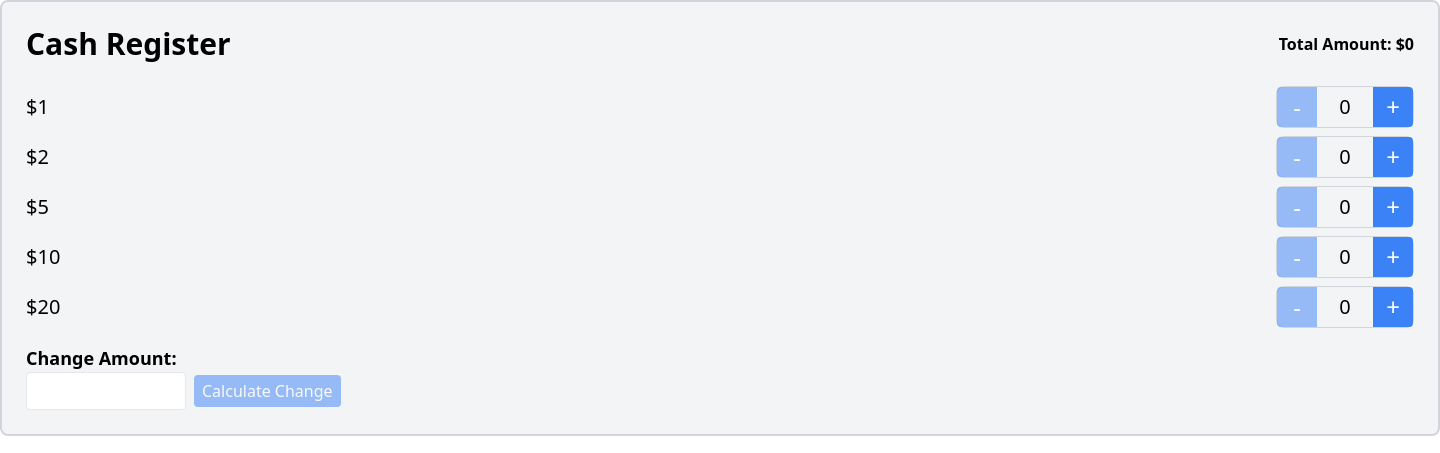
Test: [Component]: CashRegister › updates the total amount when removing money
The image size is (1440, 453).
# Add some money
Click the button with test id "add-money-20" at (1393, 307), box [1373,287,1413,327]
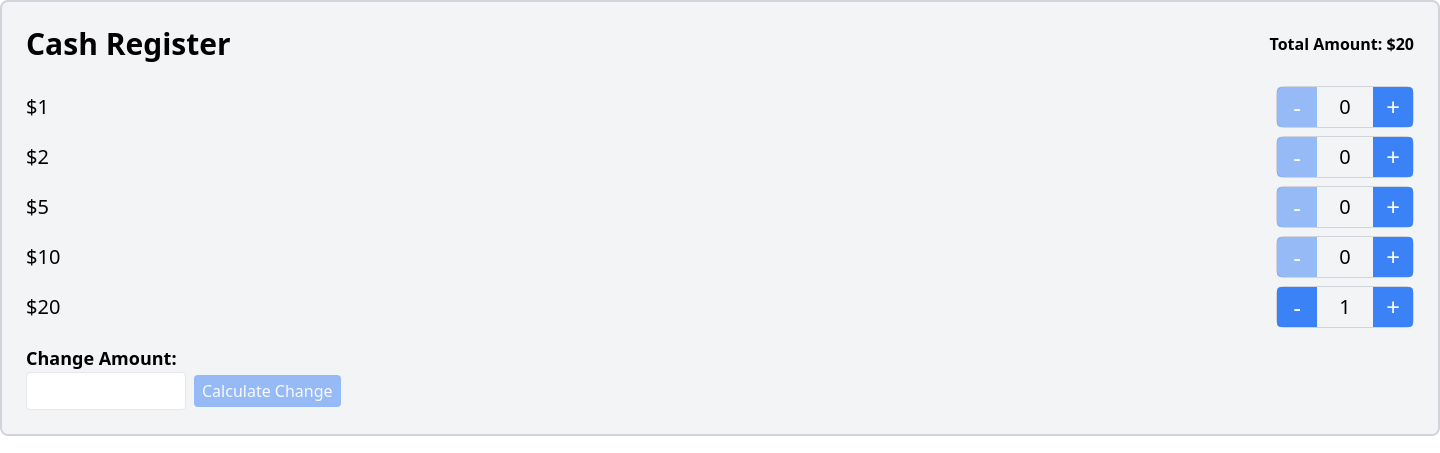
# Remove some money
Click the button with test id "remove-money-20" at (1297, 307), box [1277,287,1317,327]
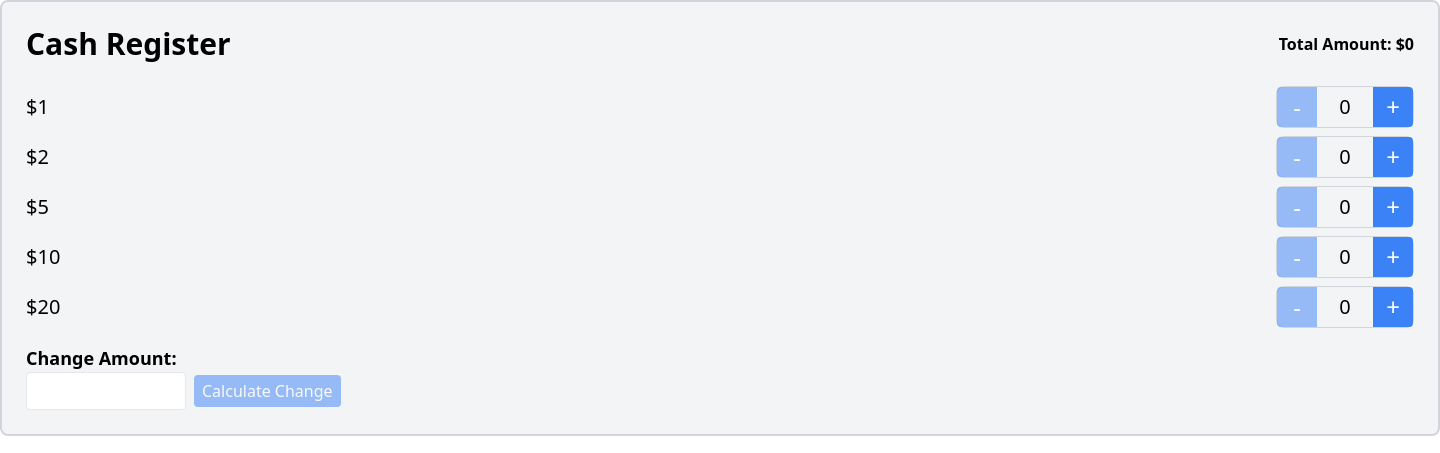
Result: the element with test id "total-amount-text" shows "$0" at [1279,32,1414,56]
